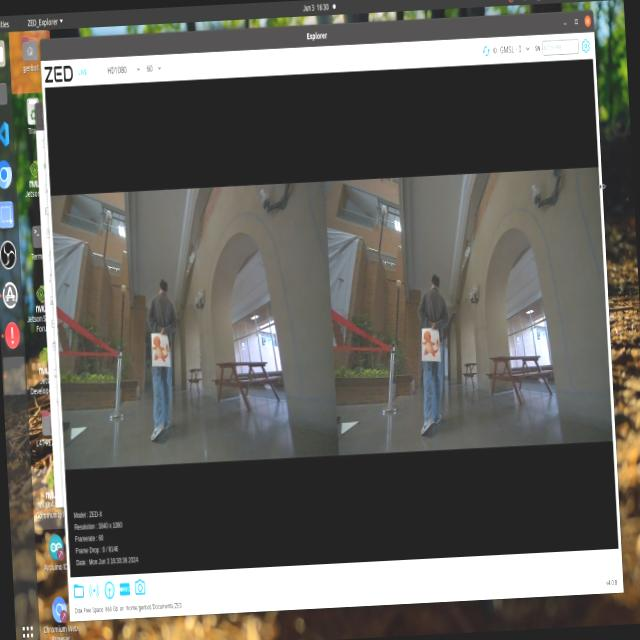red: (421, 326, 444, 362), (152, 332, 172, 366)
